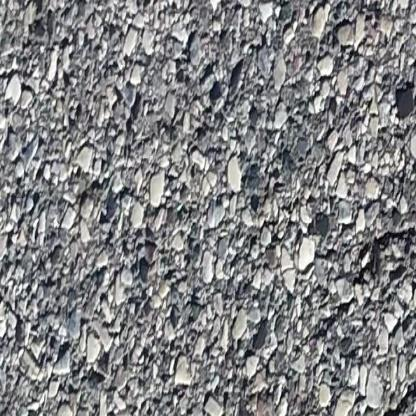Cracks: (359, 356, 416, 416)
